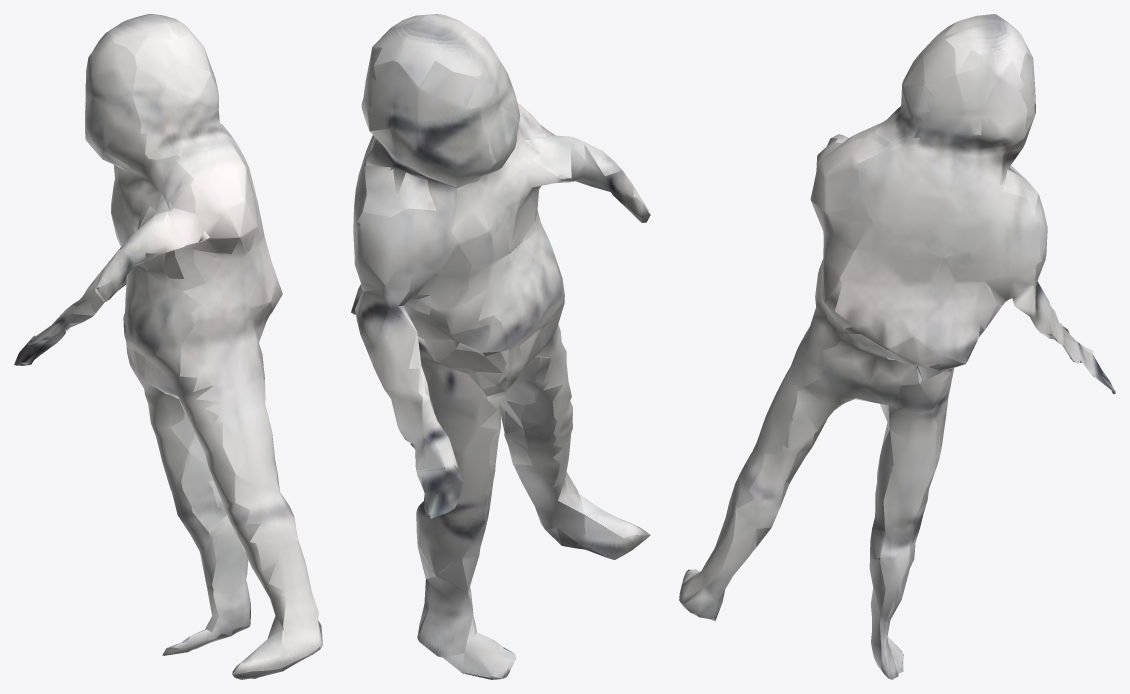
3 renders of one model, left to right at view 1: azimuth 30°, elevation 25°; view 2: azimuth 150°, elevation 25°; view 3: azimuth 270°, elevation 25°, orthographic. The views are drawn at different scales.
Parts seen in each view (by area): view 1: world; view 2: world; view 3: world.
Boxes of the visible parts, x1,y1,x2,y2 form: world: (14,14,322,679); world: (351,14,650,679); world: (679,14,1115,679).
Bounding box in the file's own units: 0.1755 × 0.4905 × 0.3024.
1 material, 1 textured.
